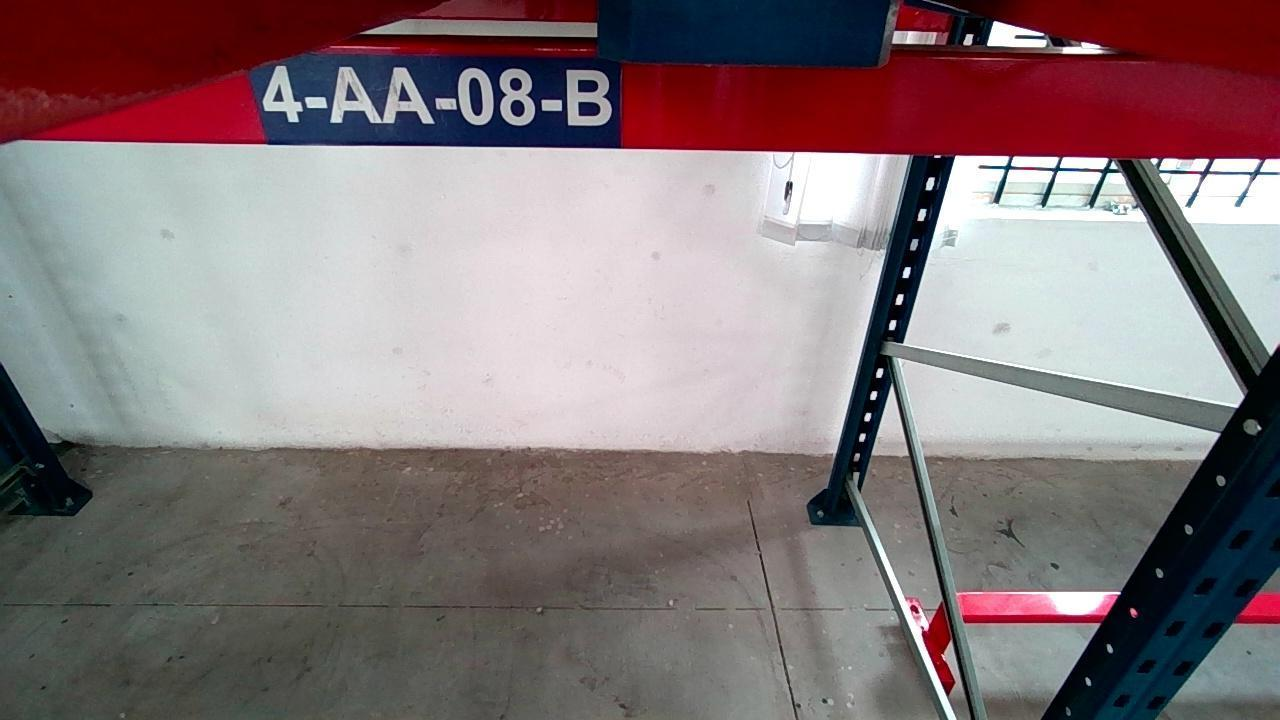h_rack: (23, 42, 1273, 159)
